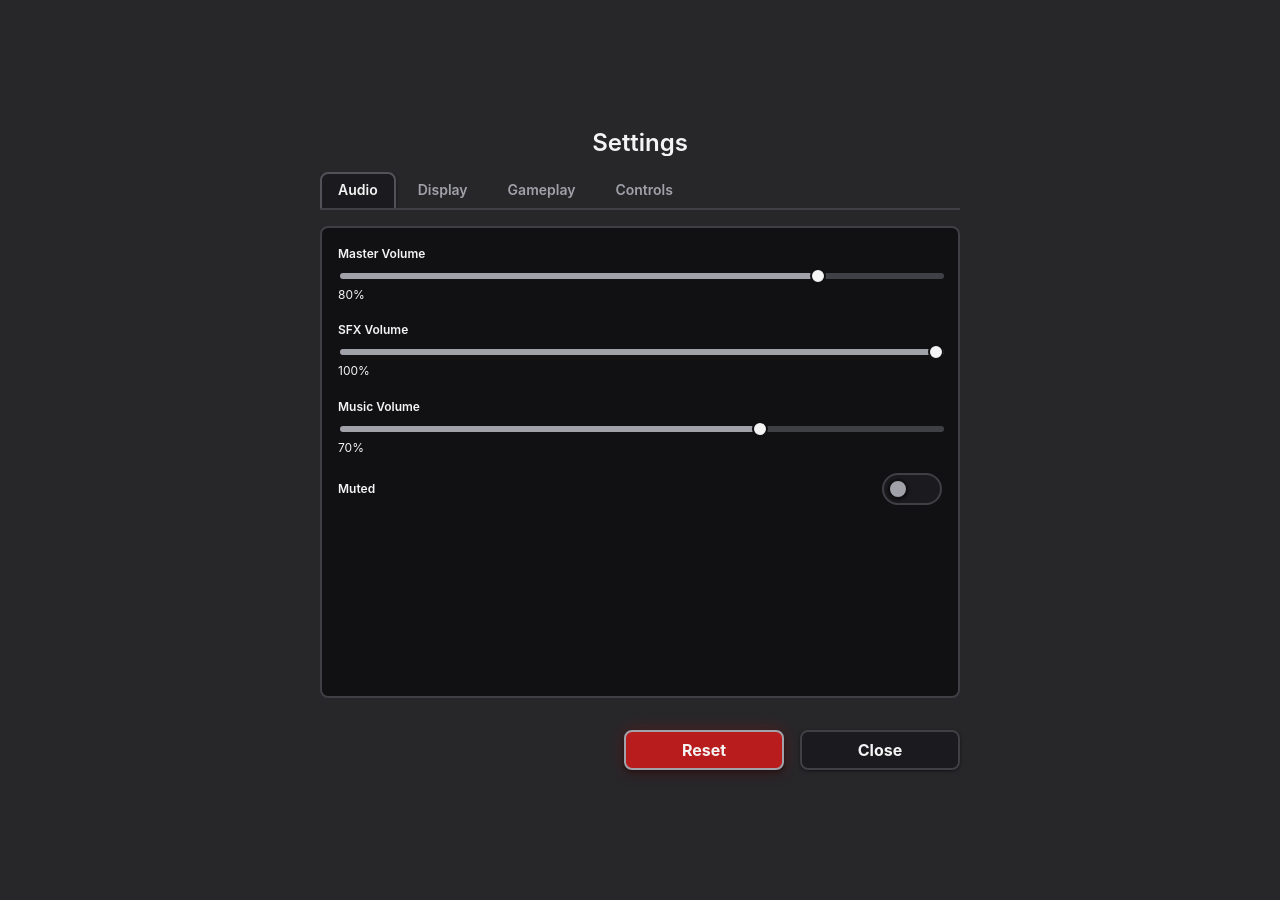
Scenario: SettingsPage — tabbed definition rendering › hydrates a fractional render scale from the store
Expected: the tab "Audio" is shown, [320,172,396,208]
Step 1. Click the tab "Display" → point(443, 190), box [400,172,486,208]
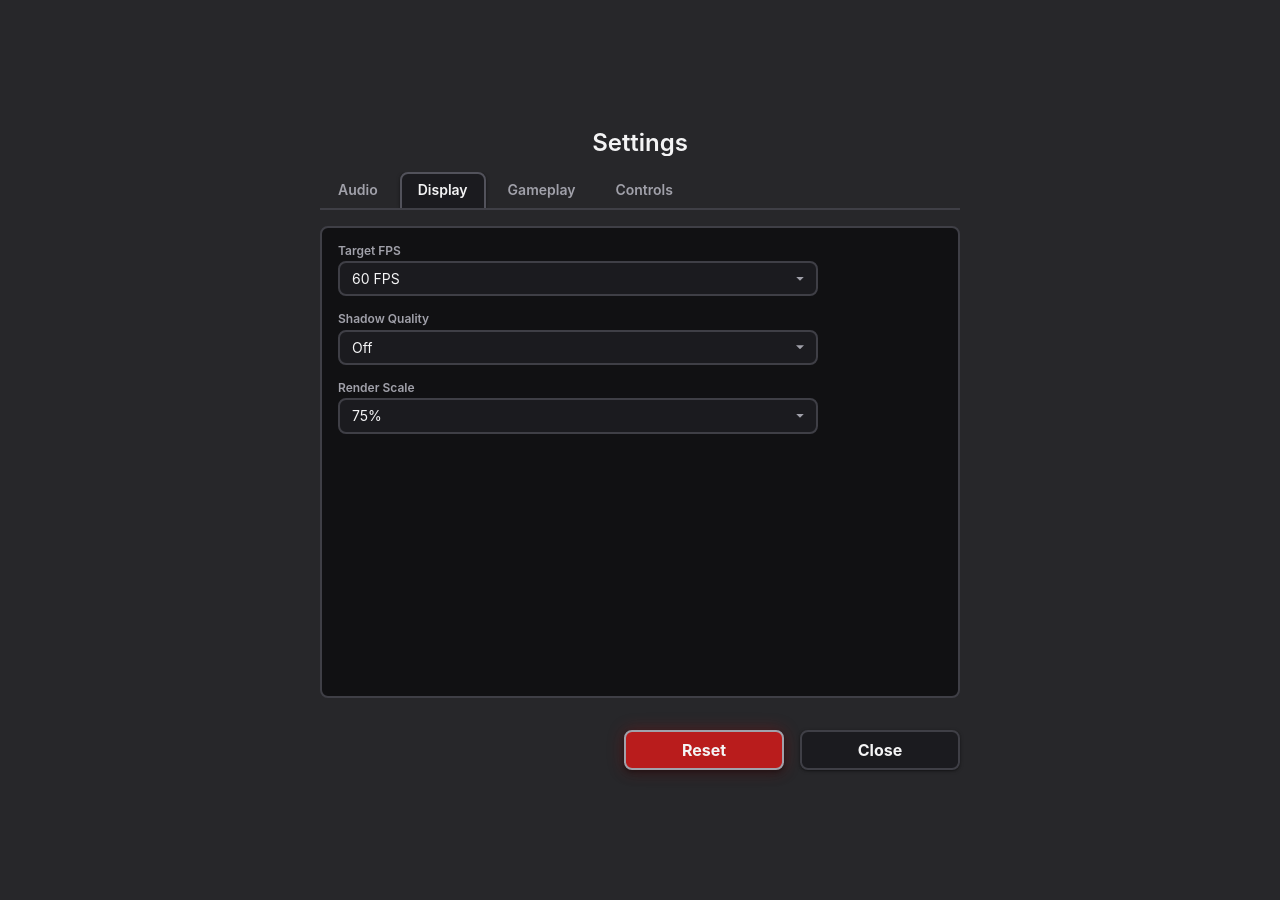
Now the dropdown labelled "Render Scale" shows "75%", box [340,400,816,432]
